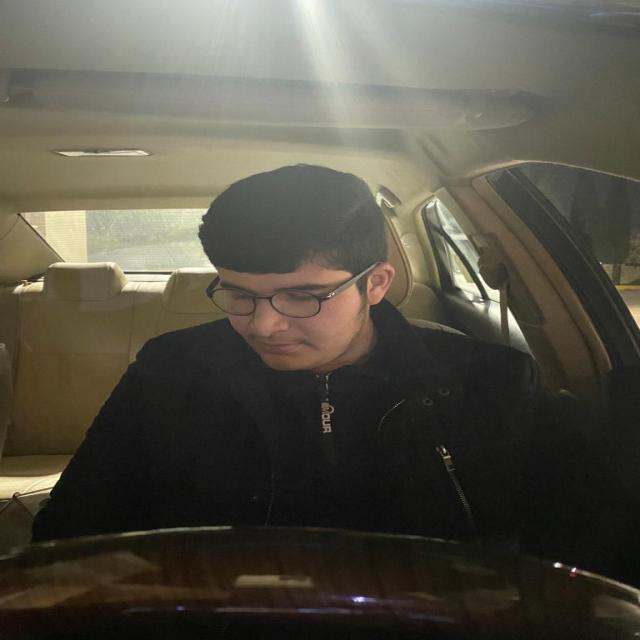drowsy: (189, 164, 406, 393)
